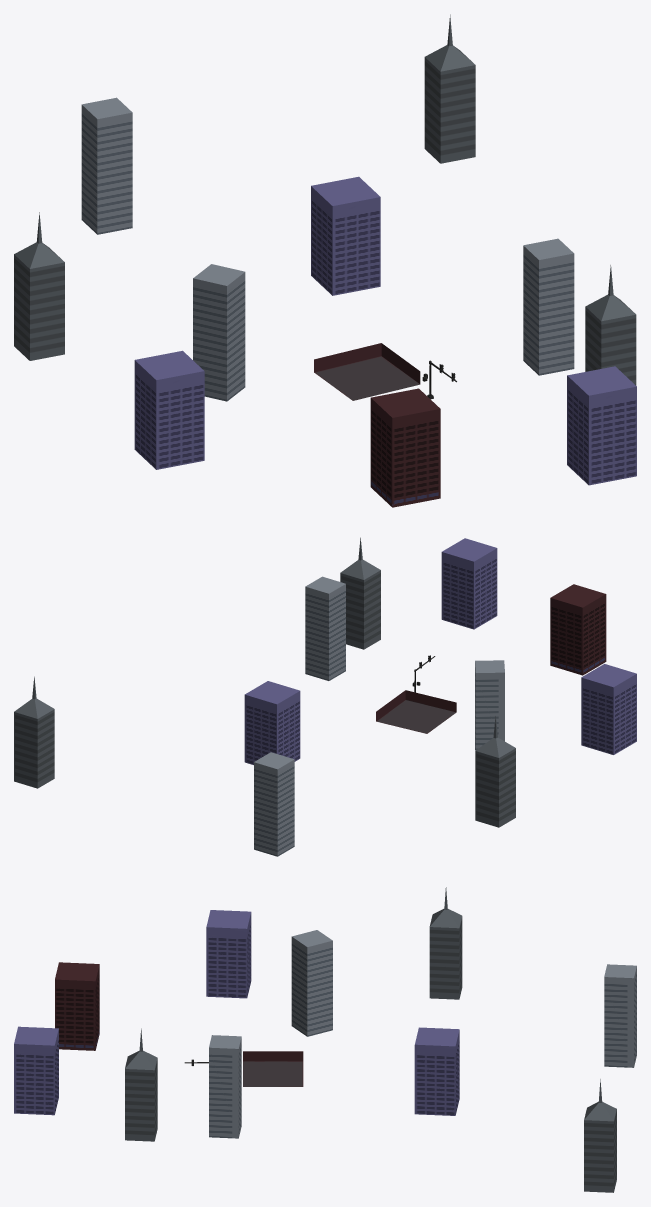
File: level.glb
The picture shows the model from 3 angles, top to bottom: view 1: azimuth 30°, elevation 25°; view 2: azimuth 150°, elevation 25°; view 3: azimuth 270°, elevation 25°; orthographic projection. The views are drawn at different scales.
Visible parts, largest first — view 1: Cube; view 2: Cube; view 3: Cube.
Part boxes in pixels (box(x1,y1,x2,y2)): Cube: box(14, 14, 636, 507); Cube: box(14, 537, 636, 856); Cube: box(14, 887, 636, 1192).
Bounding box in the file's own units: 100 × 24.37 × 124.
1 material, 1 textured.
